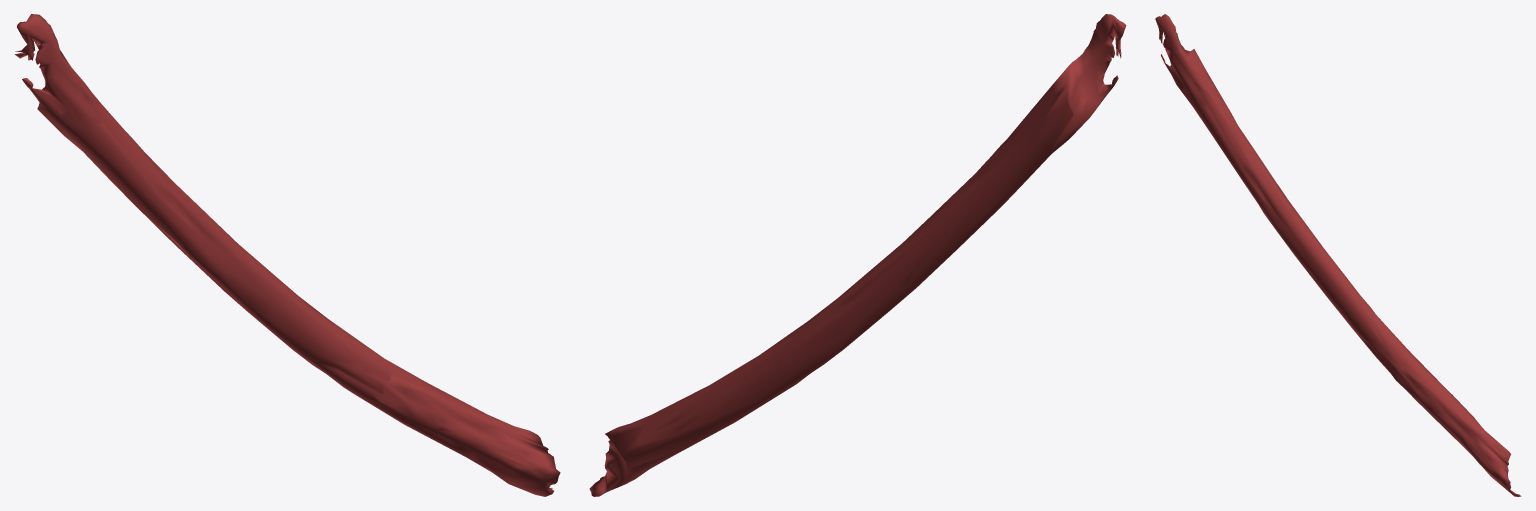
Rendered from inguinal-ligament-r.glb.
The picture shows the model from 3 angles, left to right: view 1: azimuth 30°, elevation 25°; view 2: azimuth 150°, elevation 25°; view 3: azimuth 330°, elevation 25°; orthographic projection. The views are drawn at different scales.
Parts seen in each view (by area): view 1: Inguinal ligament.r; view 2: Inguinal ligament.r; view 3: Inguinal ligament.r.
Boxes of the visible parts, x1,y1,x2,y2 form: Inguinal ligament.r: (14, 14, 560, 496); Inguinal ligament.r: (589, 14, 1126, 496); Inguinal ligament.r: (1155, 14, 1521, 496).
Bounding box in the file's own units: 0.1046 × 0.1132 × 0.00929.
